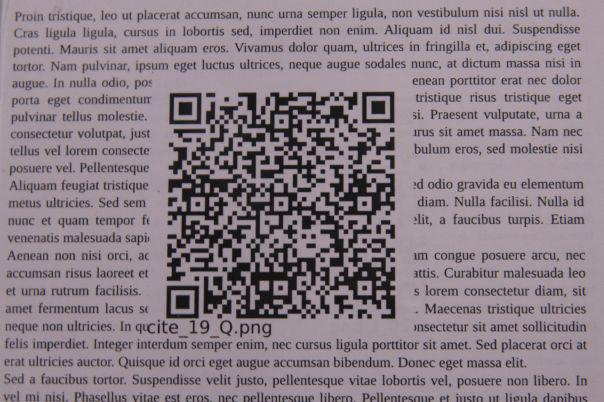Finder pattern: (160, 281, 202, 321), (166, 90, 206, 127), (361, 89, 400, 125)
